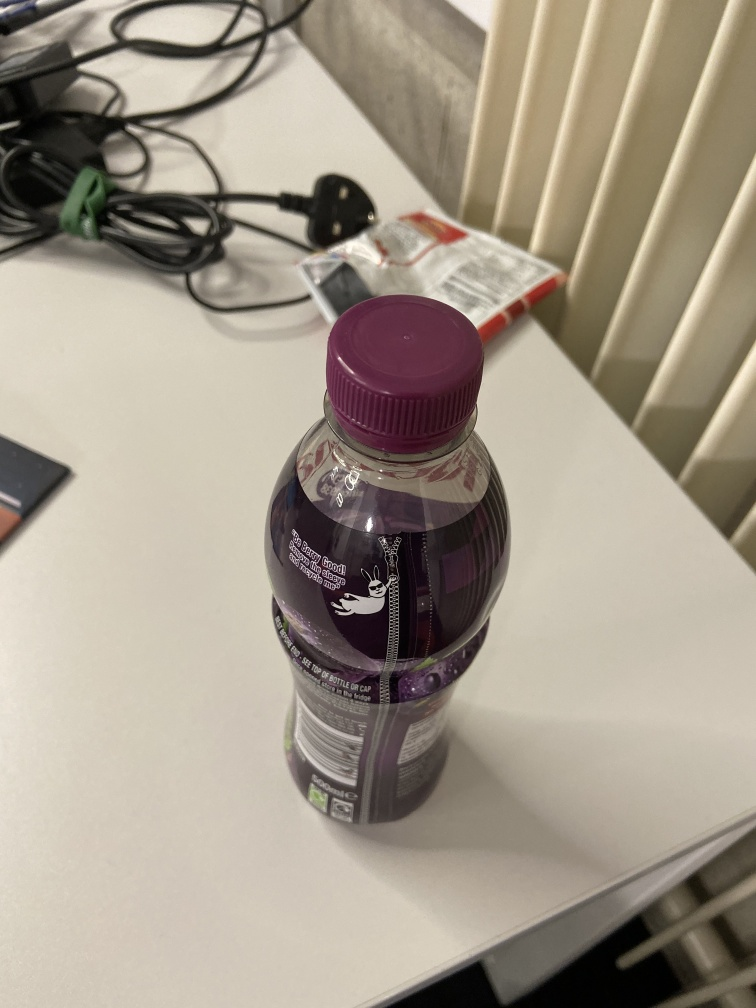bottle_purple: (262, 293, 516, 828)
